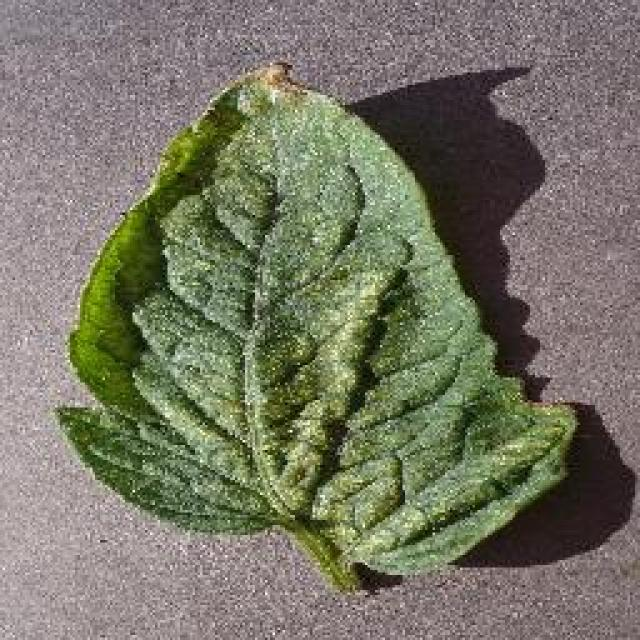Tomato___Spider_mites Two-spotted_spider_mite: (58, 65, 575, 588)
